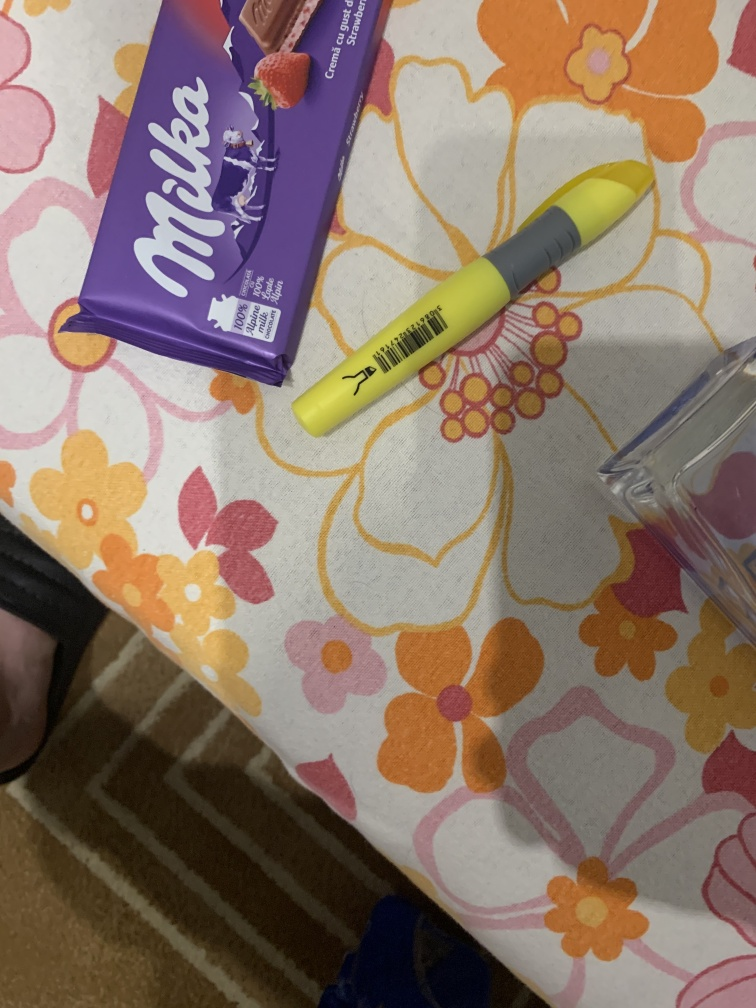milka: (55, 1, 402, 395)
